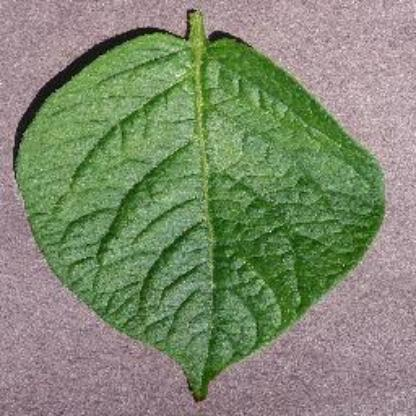Healthy-plant: (11, 26, 401, 398)
